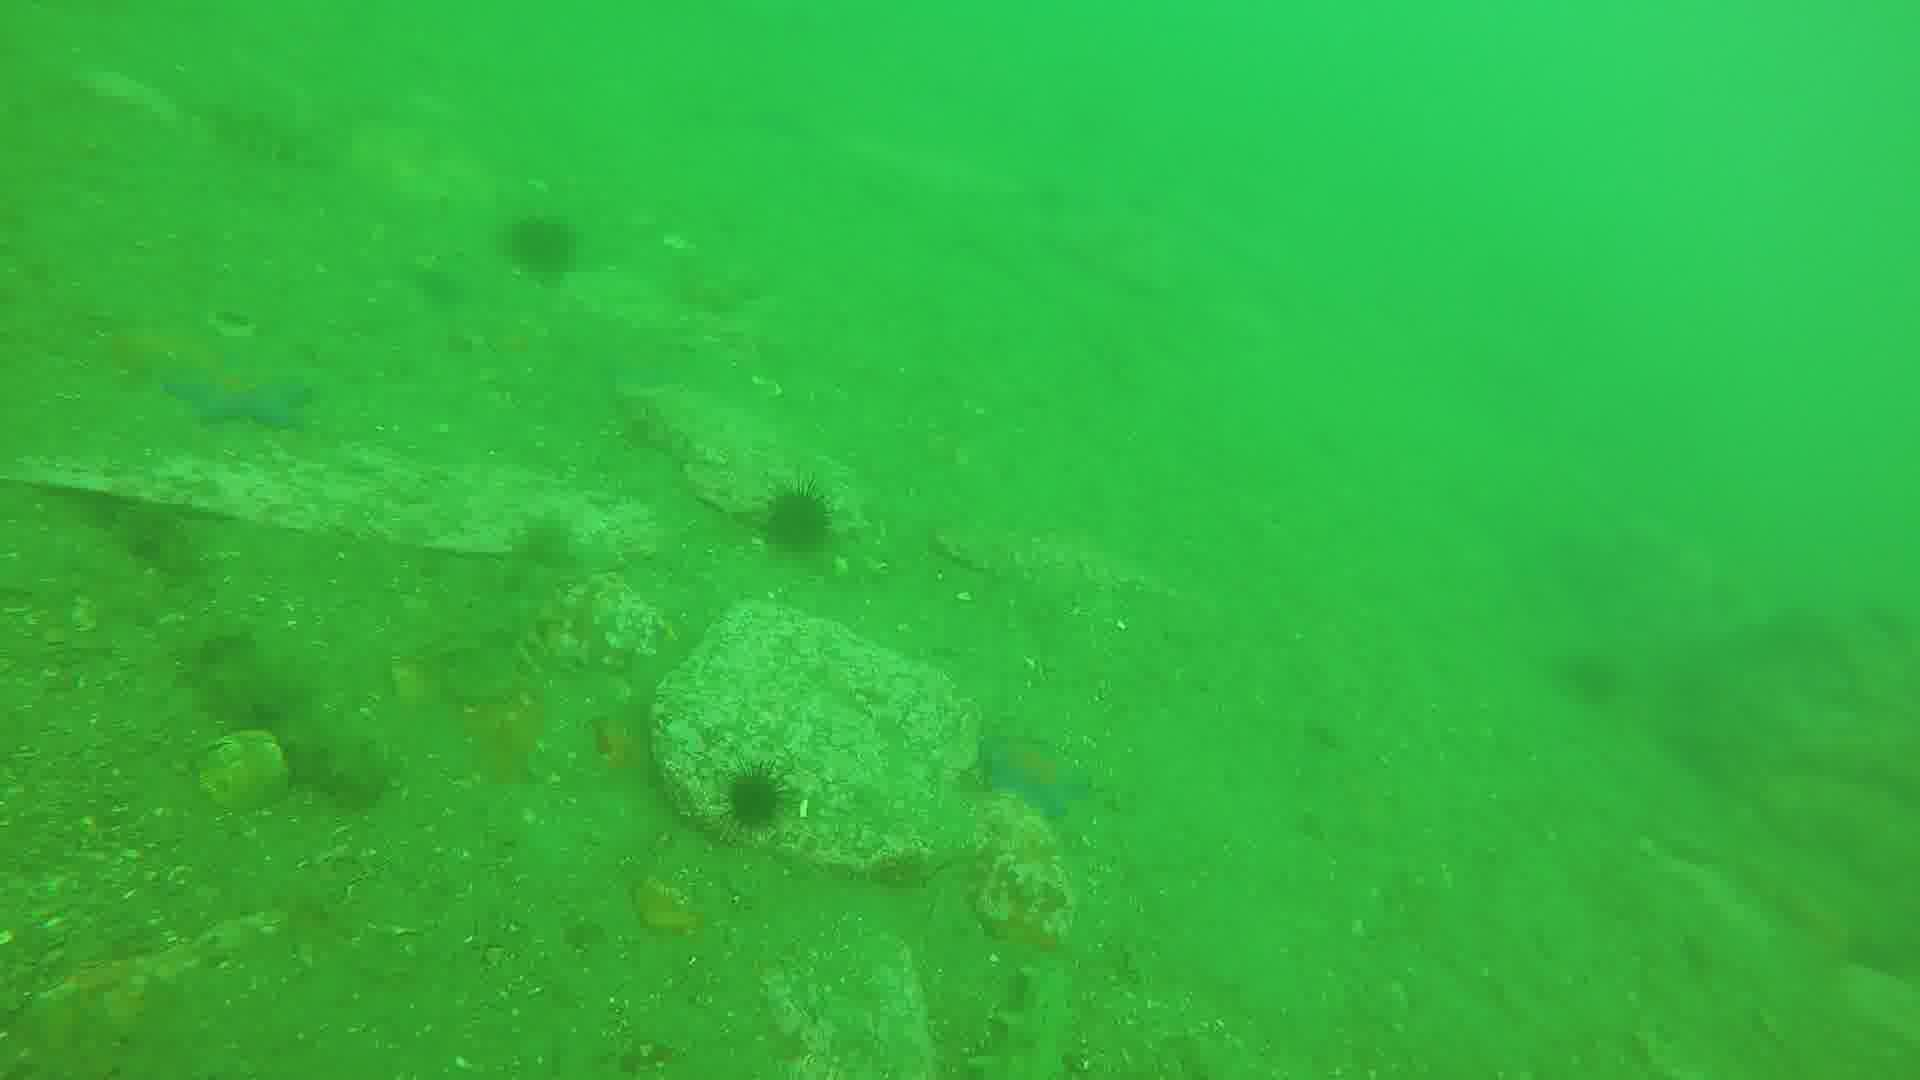echinus: (769, 480, 843, 564), (716, 762, 796, 829), (516, 216, 580, 284)
holothurian: (177, 626, 385, 804), (446, 520, 582, 724), (971, 957, 1073, 1080), (189, 103, 344, 174), (107, 495, 218, 570)
starfish: (973, 715, 1100, 824), (167, 359, 322, 434)
